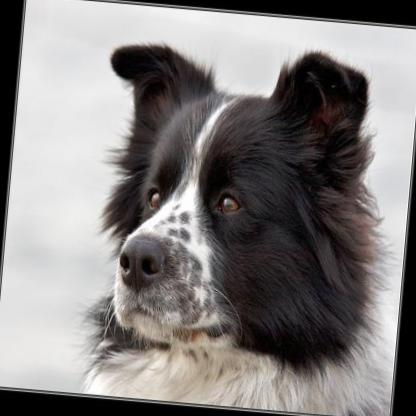Border_collie: (66, 27, 416, 416)
